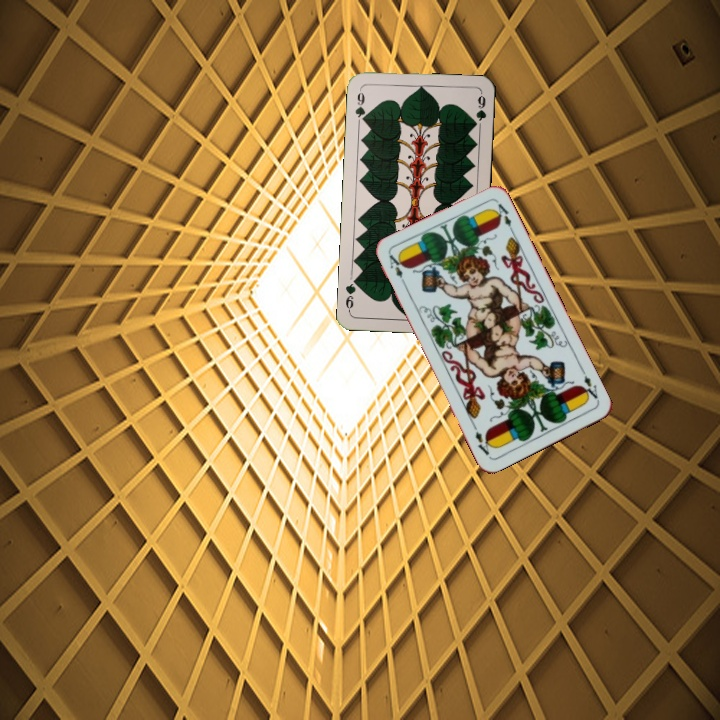EA: (577, 366, 601, 404), (385, 251, 409, 289)
G9: (351, 85, 368, 126)
